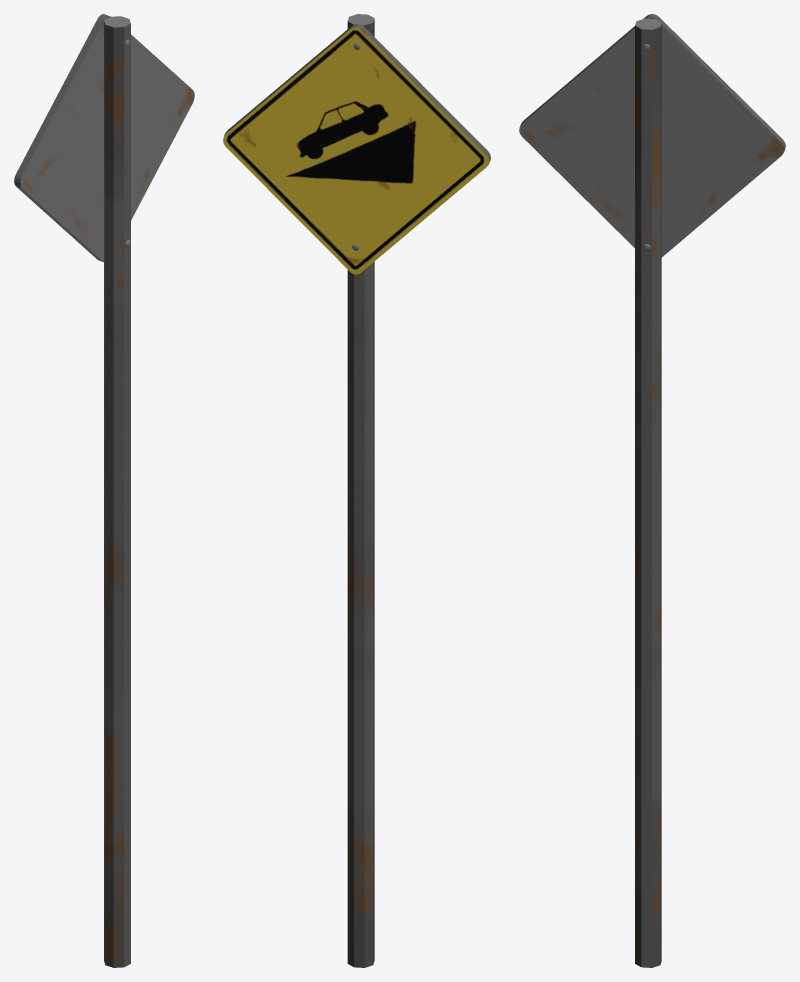
Rendered from placa-descida.fbx.
The picture shows the model from 3 angles, left to right: view 1: azimuth 30°, elevation 25°; view 2: azimuth 150°, elevation 25°; view 3: azimuth 330°, elevation 25°; orthographic projection.
Visible parts, largest first — view 1: Sphere.003; view 2: Sphere.003; view 3: Sphere.003.
Boxes of the visible parts, <box> form: Sphere.003: <box>14,14,194,967</box>; Sphere.003: <box>223,14,490,967</box>; Sphere.003: <box>519,14,785,967</box>.
Size of the model in its own units: 235 by 950 by 90.83.
